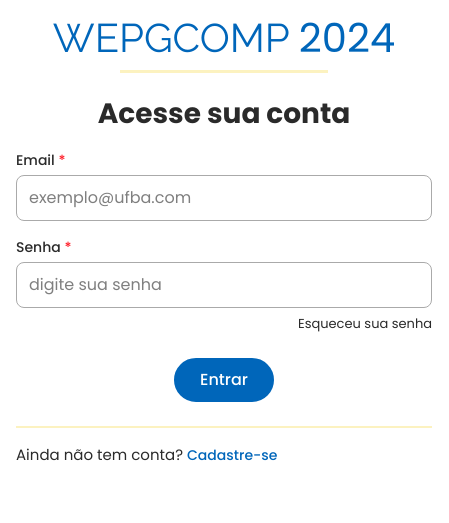
Test: LoginPage › shows validation errors on empty submit
What coordinates should you click on to do the following:
click the button "Entrar"
I would click on:
 (224, 380)
Its box is [174, 358, 274, 402].
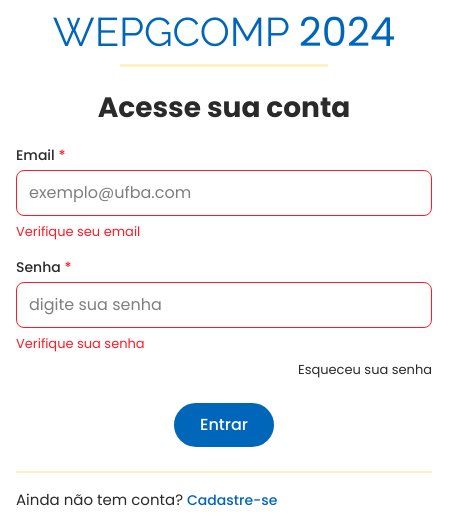
Check: the text "Verifique seu email" is shown, box [16, 222, 140, 241]
Check: the text "Verifique sua senha" is shown, box [16, 334, 145, 353]
